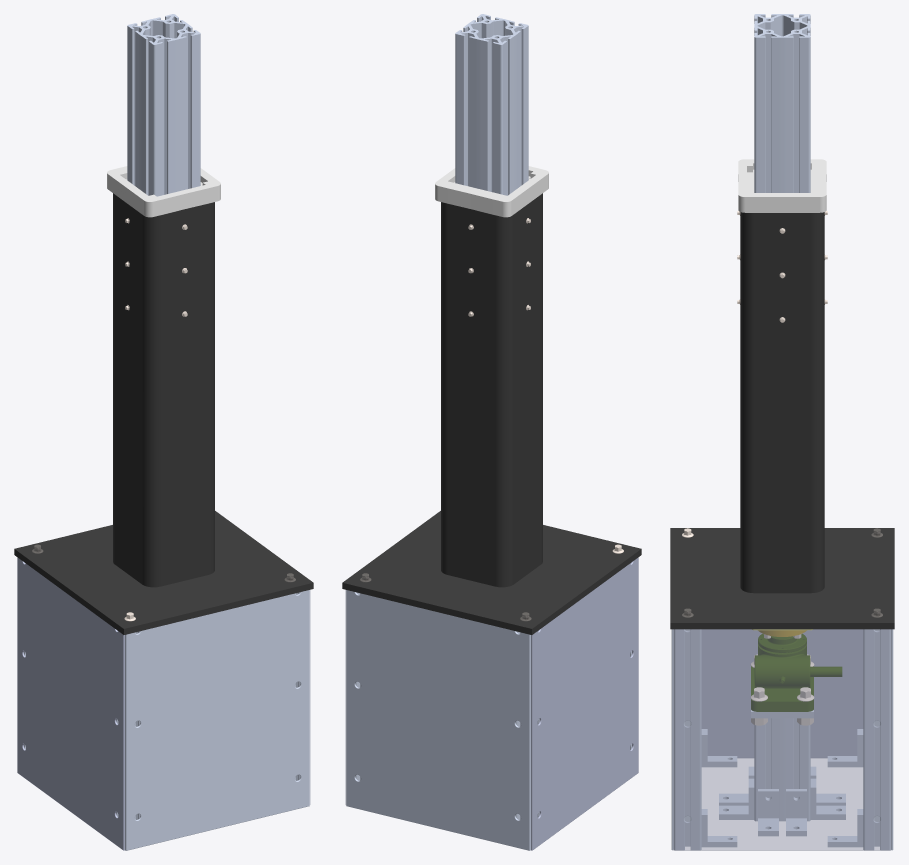
File: v7_fab_assem_rotating_mass.glb
3 renders of one model, left to right at view 1: azimuth 30°, elevation 25°; view 2: azimuth 150°, elevation 25°; view 3: azimuth 270°, elevation 25°, orthographic. The views are drawn at different scales.
Visible parts, largest first — view 1: v7_fab_support plate-1, lift outer tube 120x120x10-1, v7_fab_support plate-4, outer tube plate-1, v7_fab_assem rotating mass, sleeve cover-1; view 2: v7_fab_support plate-2, lift outer tube 120x120x10-1, v7_fab_support plate-4, outer tube plate-1, v7_fab_assem rotating mass, sleeve cover-1; view 3: v7_fab_support plate-3, lift outer tube 120x120x10-1, outer tube plate-1, v7_fab_support plate-4, v7_fab_assem rotating mass, v7_fab_4040_350mm-4, v7_fab_4040_350mm-5, 62255K159_Screw Jack-1, v7_fab_8080 jack_175mm-1, sleeve cover-1, single large exterior bracket-3, single large exterior bracket-4 (+11 smaller).
Boxes of the visible parts, left/top/right/bottom form: v7_fab_support plate-1: left=125, top=590, right=309, bottom=850; lift outer tube 120x120x10-1: left=113, top=193, right=214, bottom=587; v7_fab_support plate-4: left=17, top=557, right=124, bottom=850; outer tube plate-1: left=14, top=511, right=313, bottom=634; v7_fab_assem rotating mass: left=127, top=14, right=200, bottom=196; sleeve cover-1: left=107, top=166, right=220, bottom=217; v7_fab_support plate-2: left=346, top=590, right=530, bottom=850; lift outer tube 120x120x10-1: left=441, top=193, right=542, bottom=587; v7_fab_support plate-4: left=531, top=557, right=638, bottom=850; outer tube plate-1: left=342, top=511, right=641, bottom=634; v7_fab_assem rotating mass: left=455, top=14, right=528, bottom=195; sleeve cover-1: left=435, top=166, right=548, bottom=217; v7_fab_support plate-3: left=674, top=629, right=890, bottom=850; lift outer tube 120x120x10-1: left=740, top=212, right=824, bottom=593; outer tube plate-1: left=670, top=528, right=894, bottom=629; v7_fab_support plate-4: left=701, top=629, right=863, bottom=758; v7_fab_assem rotating mass: left=754, top=14, right=810, bottom=192; v7_fab_4040_350mm-4: left=673, top=629, right=701, bottom=850; v7_fab_4040_350mm-5: left=863, top=629, right=891, bottom=850; 62255K159_Screw Jack-1: left=751, top=634, right=842, bottom=711; v7_fab_8080 jack_175mm-1: left=754, top=718, right=810, bottom=821; sleeve cover-1: left=738, top=159, right=826, bottom=212; single large exterior bracket-3: left=758, top=789, right=778, bottom=836; single large exterior bracket-4: left=786, top=789, right=806, bottom=836.
Size of the model in its own units: 0.32 by 1.22 by 0.32.
